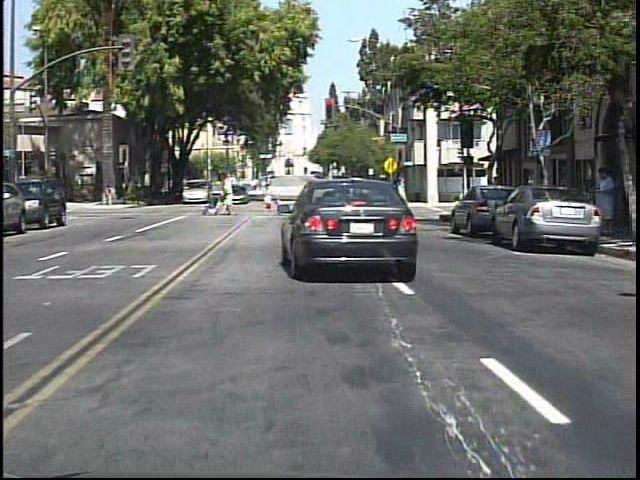person: (594, 162, 620, 219), (219, 171, 241, 217), (104, 181, 118, 207), (133, 176, 134, 206)
